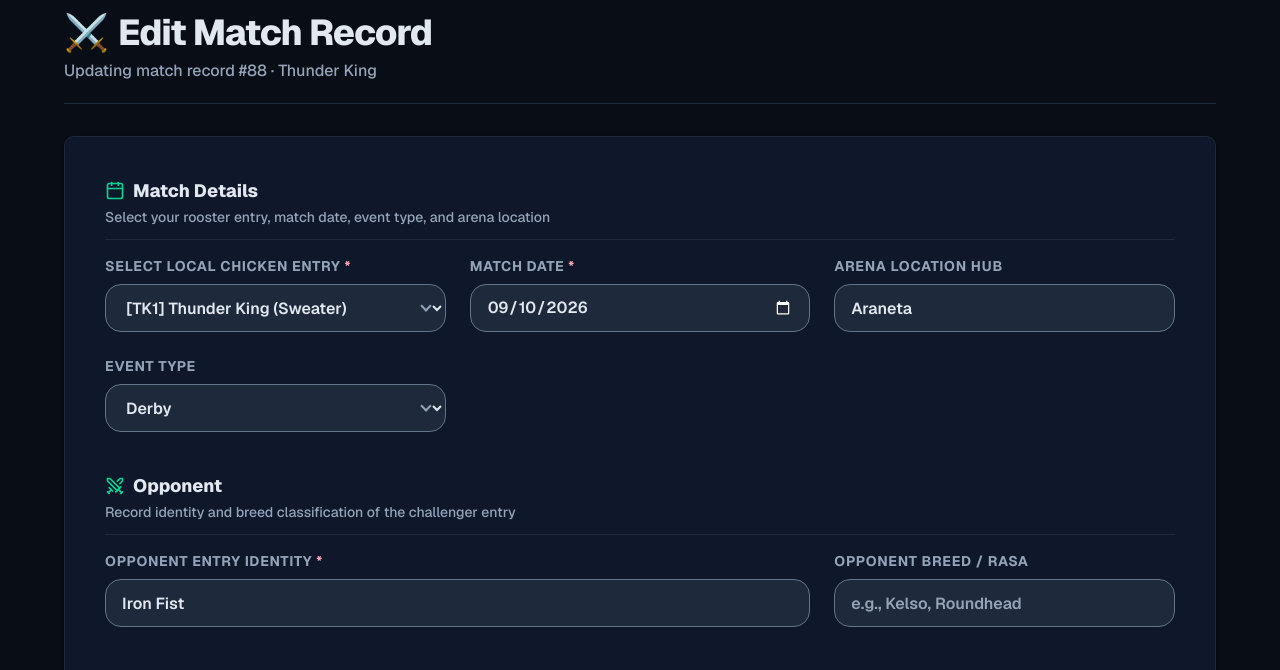
Test case: MatchRecordForm edit path — cases (a) to (j) [FIXTURE] › (a) Normal match with active rooster › shows Save Failed banner and stays on form when updateMatch returns error
Replace the text in the field labelled "Opponent Entry Identity *" with "Changed Opponent": coordinates (458, 603) [105,579,810,627]
(page scrolled)
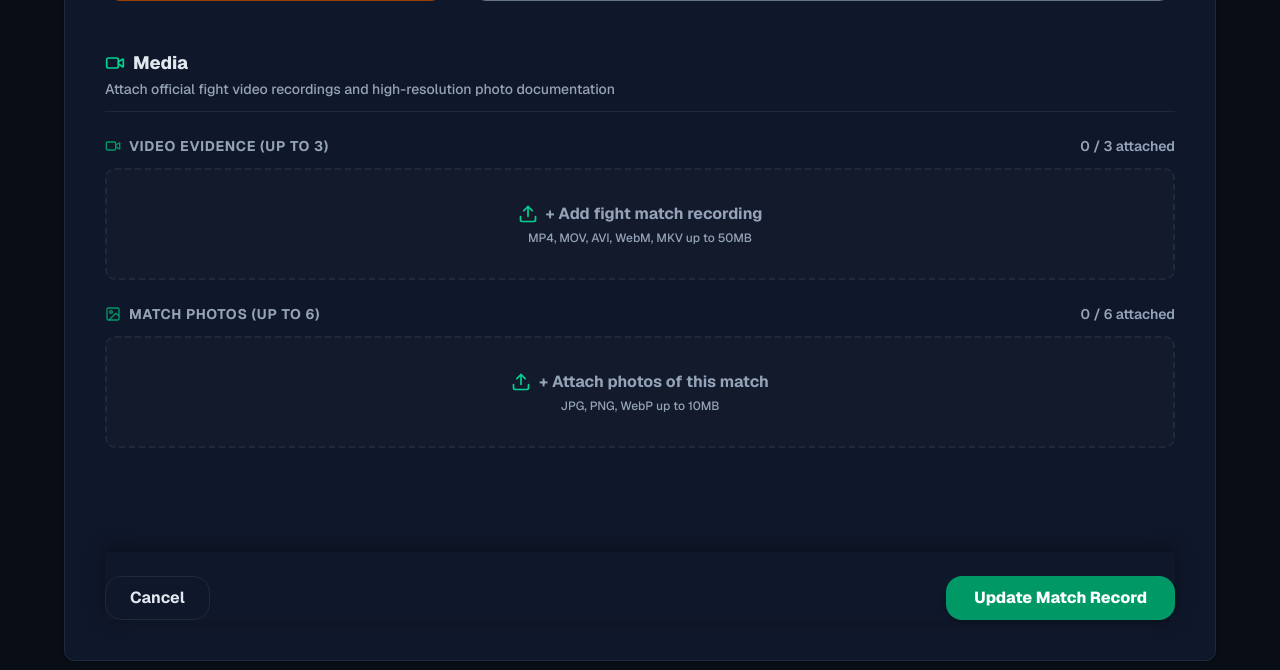
Click the button "Update Match Record": coordinates (1061, 598) [946,576,1175,620]
(page scrolled)
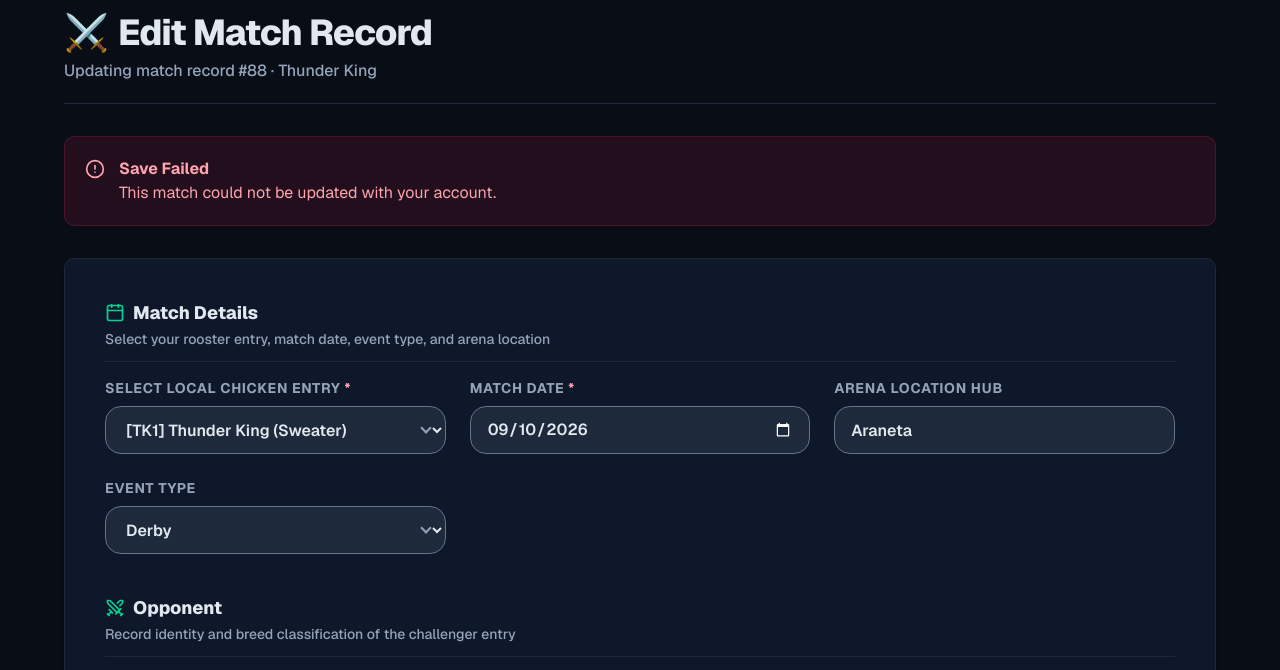
Result: the message "Save Failed This match could not be updated with your account." is shown at [64,136,1216,226]
Result: the text "This match could not be updated with your account." is shown at [119,182,496,203]
